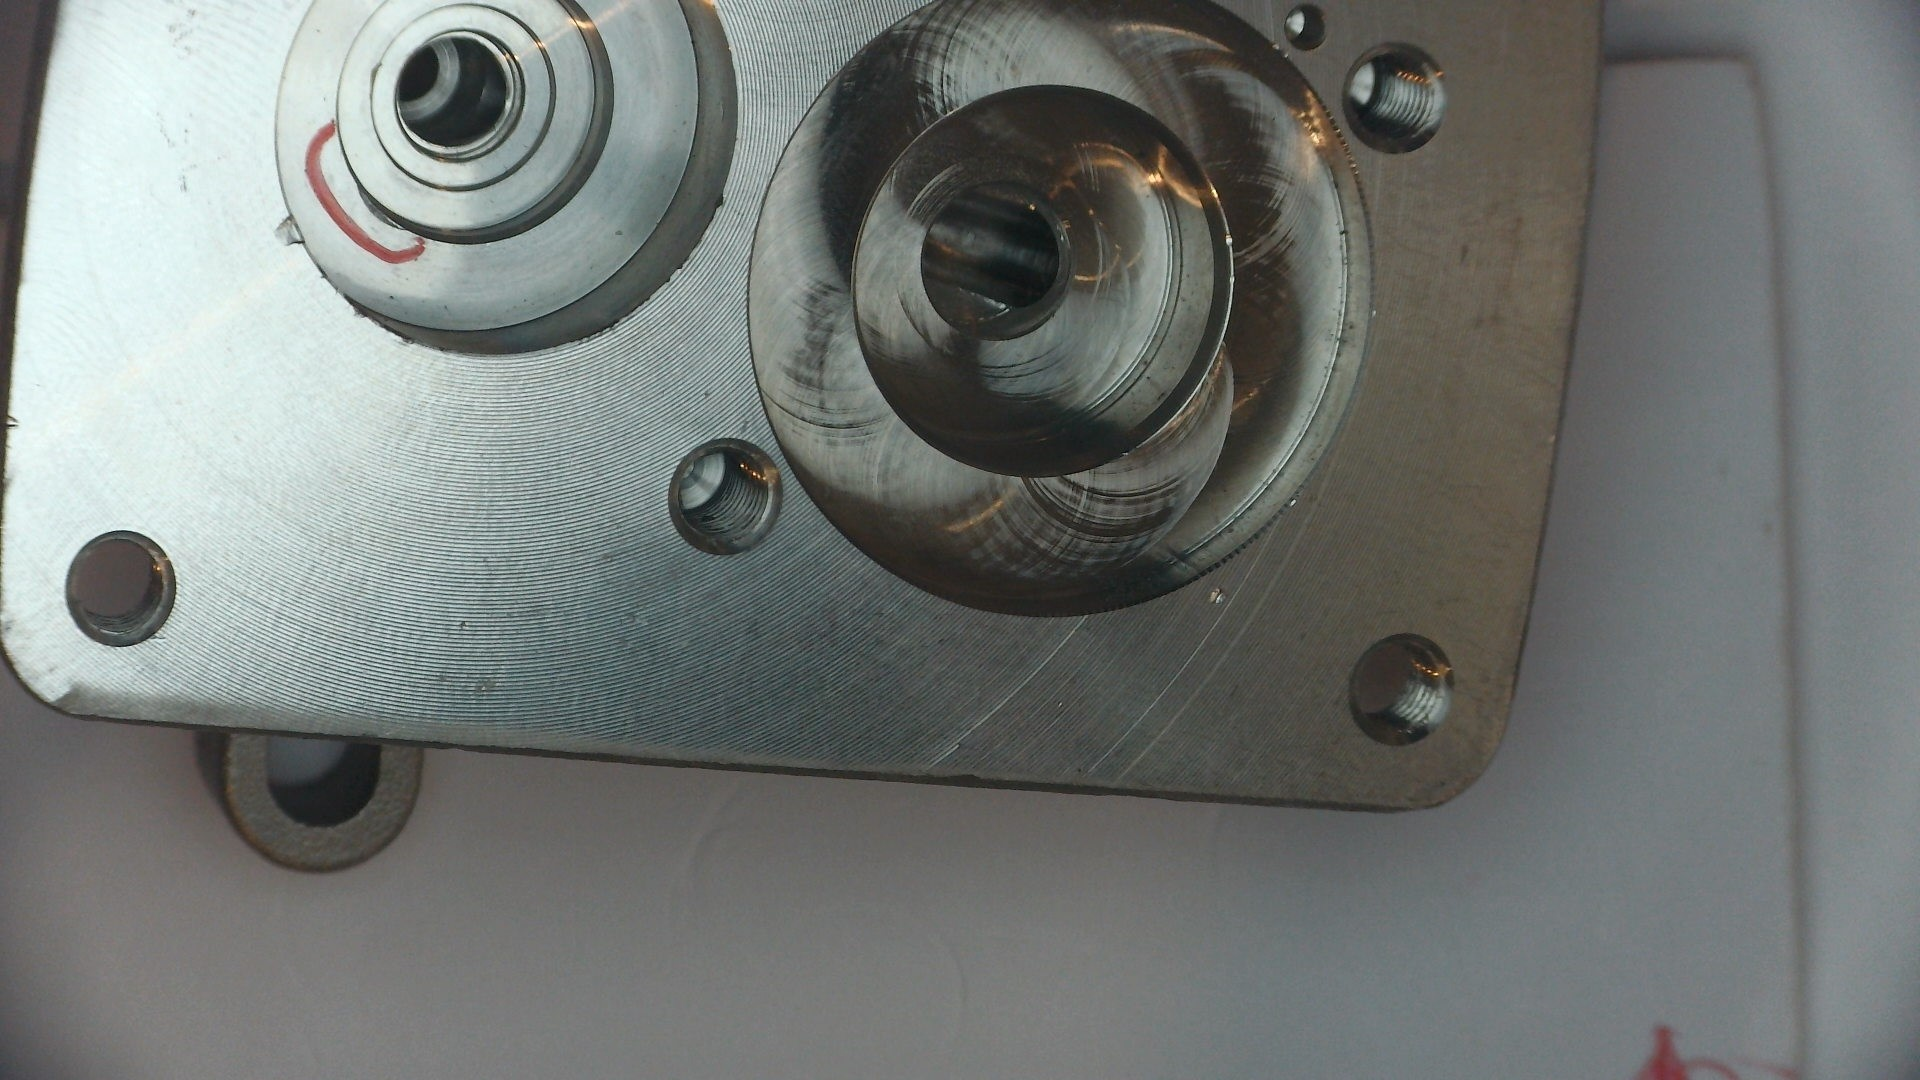dent: (270, 210, 309, 248), (1205, 585, 1230, 611), (712, 193, 727, 210), (1222, 229, 1236, 248), (1286, 493, 1299, 506), (1545, 431, 1557, 446), (1118, 448, 1130, 459), (1226, 272, 1237, 284), (1270, 40, 1280, 51), (613, 227, 625, 237), (1369, 306, 1377, 319), (1280, 51, 1291, 61)
thread_presence: (676, 444, 770, 545), (1364, 640, 1445, 738), (1353, 50, 1436, 141), (80, 559, 164, 637)
